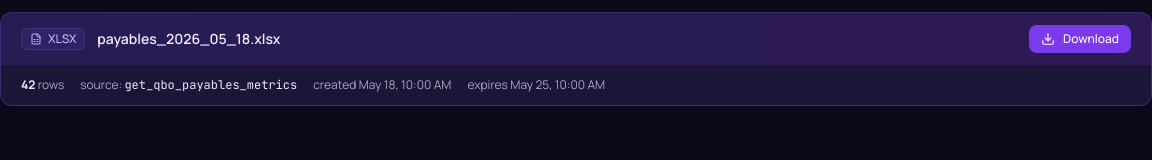
FinanceExportArtifact error envelopes › status 0 shows the network error message
Click the button with test id "finance-export-download" at [1080, 39], box 1029,25 -> 1131,53
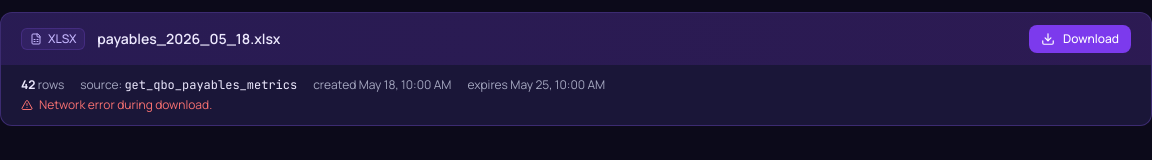
expect the element with test id "finance-export-error" is shown: met, box 21,96 -> 212,113
expect the element with test id "finance-export-error" reads "Network error during download.": met, box 39,96 -> 212,113
